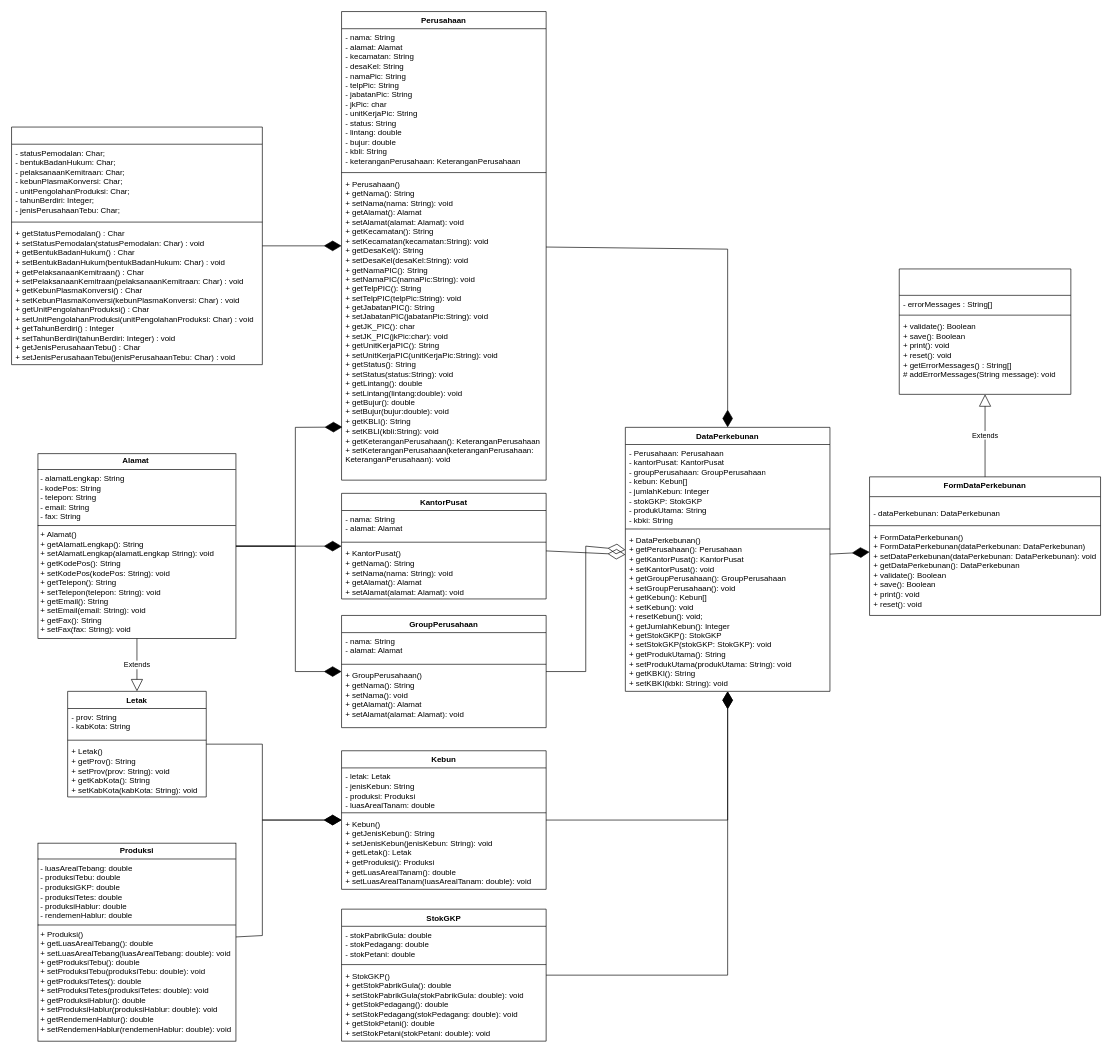
This 1112x1055 diagram has some shape labels left out. The box of each missing label's shape, as (x1, y1, x2, y2) in pixels:
KeteranganPerusahaan: (11, 126, 262, 365)
{abstract} Form: (899, 268, 1071, 394)
